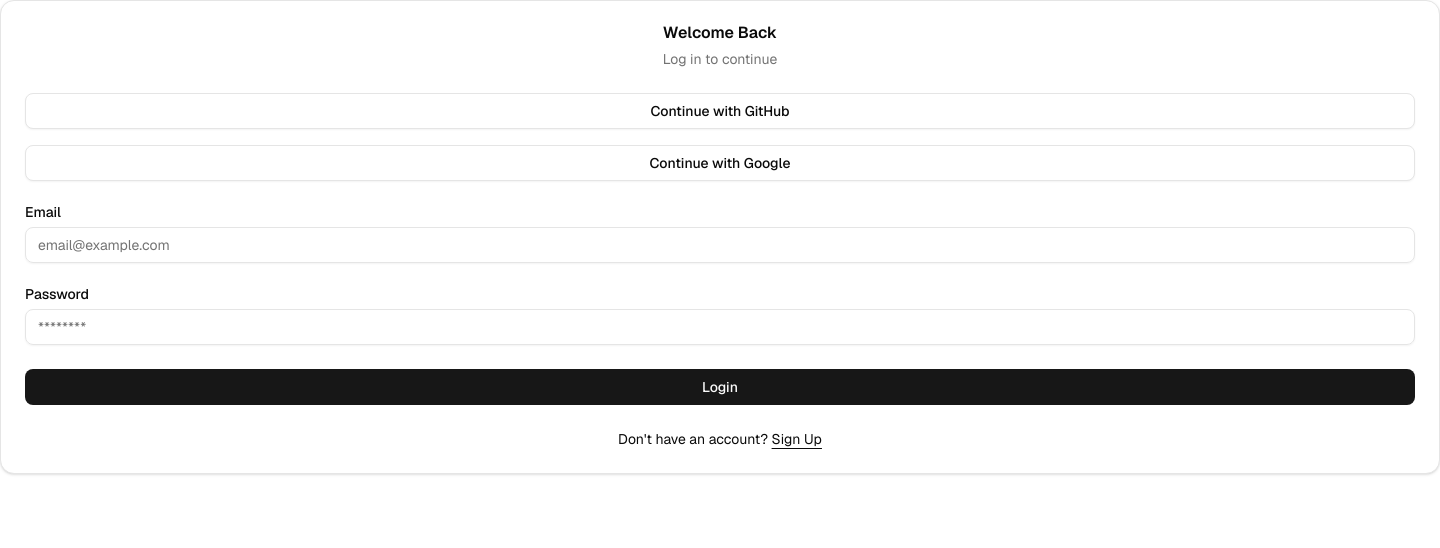
it: LoginForm Component › returns error messages if the form submission is not valid
The image size is (1440, 548).
Click the button "Login" at (720,387), box x1=25 y1=369 x2=1415 y2=405
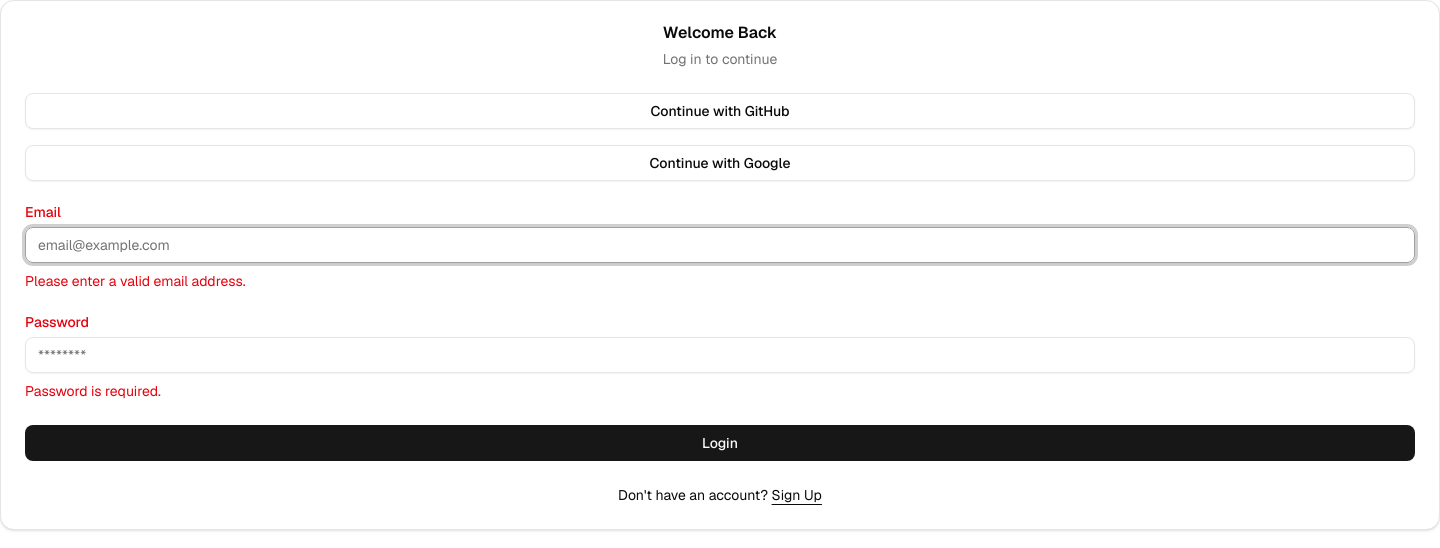
Now the text "Please enter a valid email address." is shown, box x1=25 y1=272 x2=246 y2=290
Now the text "Password is required." is shown, box x1=25 y1=382 x2=161 y2=400
